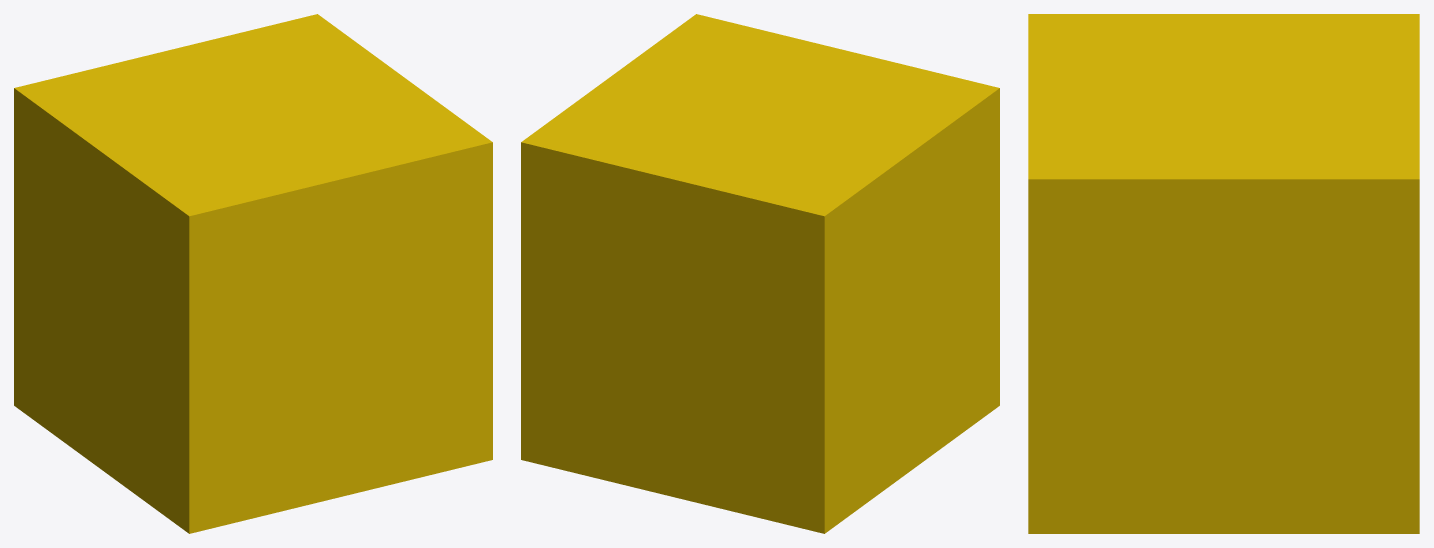
Rendered from firePowerUp.fbx.
3 views of the same model, side by side, from view 1: azimuth 30°, elevation 25°; view 2: azimuth 150°, elevation 25°; view 3: azimuth 270°, elevation 25° (orthographic). The views are drawn at different scales.
Parts seen in each view (by area): view 1: pCube1; view 2: pCube1; view 3: pCube1.
Part boxes in pixels (left/top/right/bottom): pCube1: left=14, top=14, right=492, bottom=533; pCube1: left=521, top=14, right=999, bottom=533; pCube1: left=1028, top=14, right=1419, bottom=533.
Size of the model in its own units: 100 by 100 by 100.
